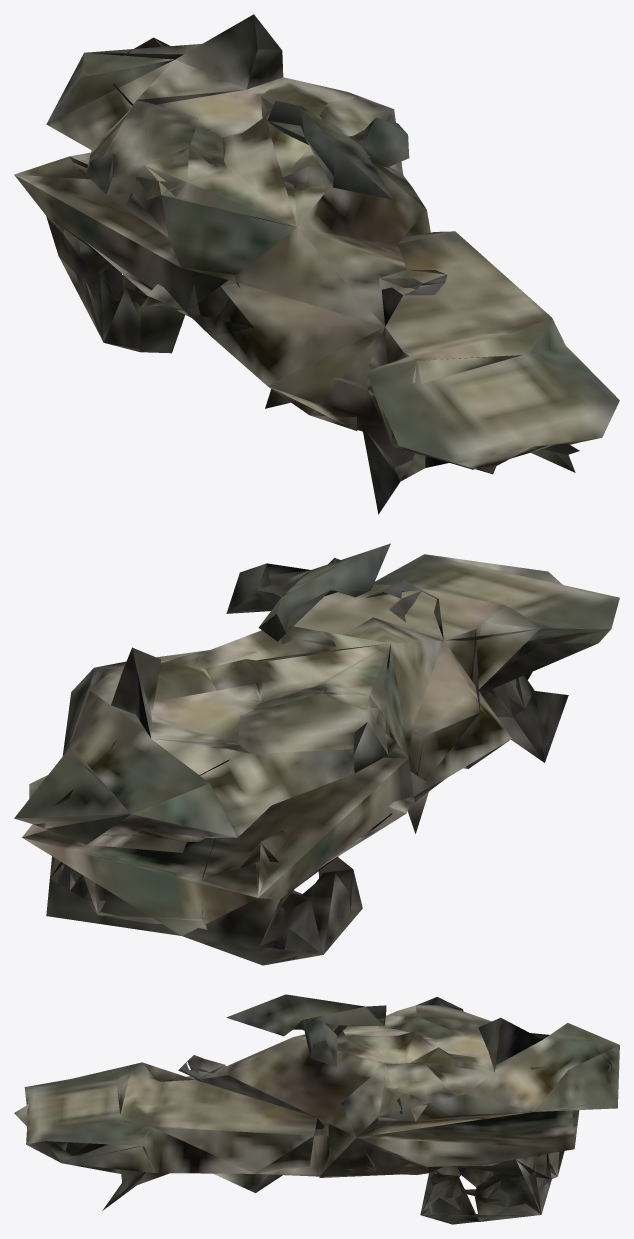
Rendered from aa_vehicle_1281601400_lod0m.glb.
3 views of the same model, one above another, from view 1: azimuth 30°, elevation 25°; view 2: azimuth 150°, elevation 25°; view 3: azimuth 270°, elevation 25° (orthographic). The views are drawn at different scales.
Bounding box in the file's own units: 3 × 2.7 × 7.62.
1 material, 1 textured.
